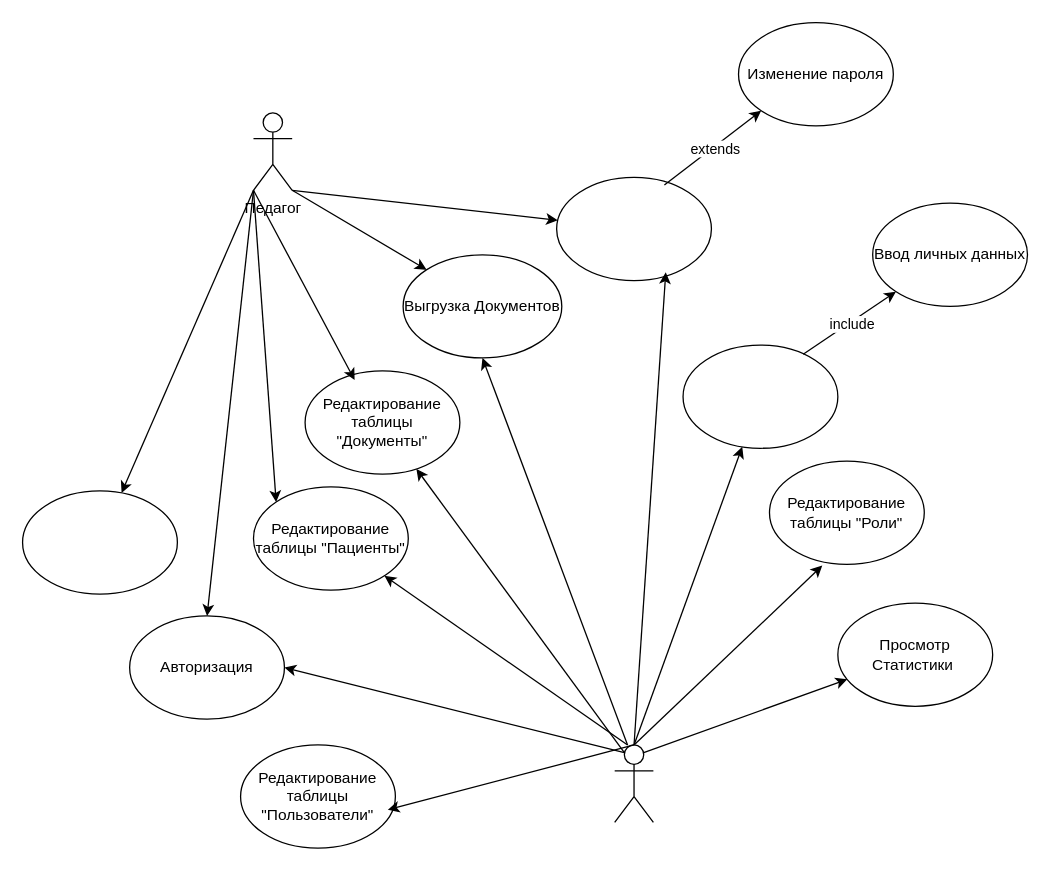
This 1050x891 diagram has some shape labels left out. Here are the shapes that lost their labels. From the top down, the centre of each, then its label:
At pixel 633 228: "Просмотр личного кабинета".
At pixel 760 396: "Регистрация нового Пользователя".
At pixel 99 542: "Просмотр Личной Статистики".
At pixel 633 783: "Администратор".
